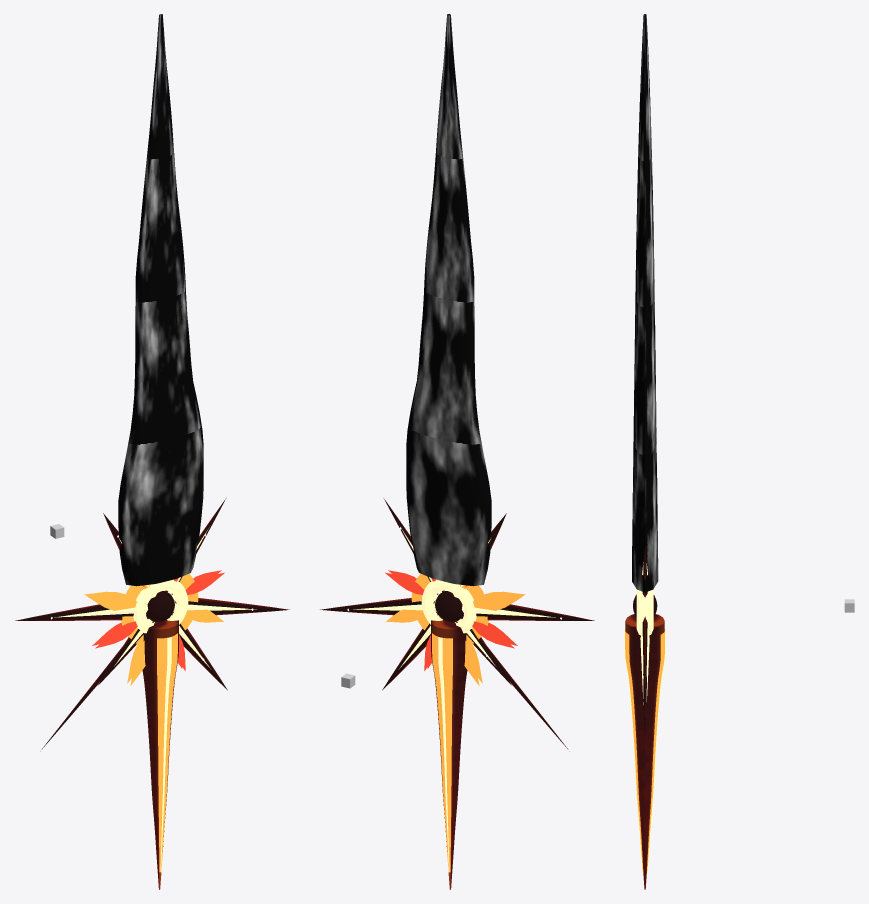
The model's file is StarburstSword.glb.
The picture shows the model from 3 angles, left to right: view 1: azimuth 30°, elevation 25°; view 2: azimuth 150°, elevation 25°; view 3: azimuth 270°, elevation 25°; orthographic projection.
Visible parts, largest first — view 1: Aura, GlowOrange, Shell, GlowYellow, Handle, FlameRed; view 2: Aura, GlowOrange, Shell, GlowYellow, Handle, FlameRed; view 3: Aura, Handle, GlowYellow, GlowOrange, Shell.
Boxes of the visible parts, x1,y1,x2,y2 form: Aura: (118, 14, 203, 586); GlowOrange: (84, 574, 223, 872); Shell: (15, 498, 289, 751); GlowYellow: (54, 527, 256, 871); Handle: (142, 620, 178, 889); FlameRed: (92, 570, 224, 670); Aura: (406, 14, 491, 586); GlowOrange: (386, 574, 525, 872); Shell: (320, 498, 594, 751); GlowYellow: (353, 529, 555, 871); Handle: (431, 620, 467, 889); FlameRed: (385, 570, 517, 670); Aura: (632, 14, 658, 592); Handle: (625, 614, 664, 889); GlowYellow: (624, 562, 665, 871); GlowOrange: (625, 629, 665, 871); Shell: (633, 547, 657, 739).
Bounding box in the file's own units: 1.56 × 4.72 × 1.13.
Materials: 7 (3 with a texture image).
